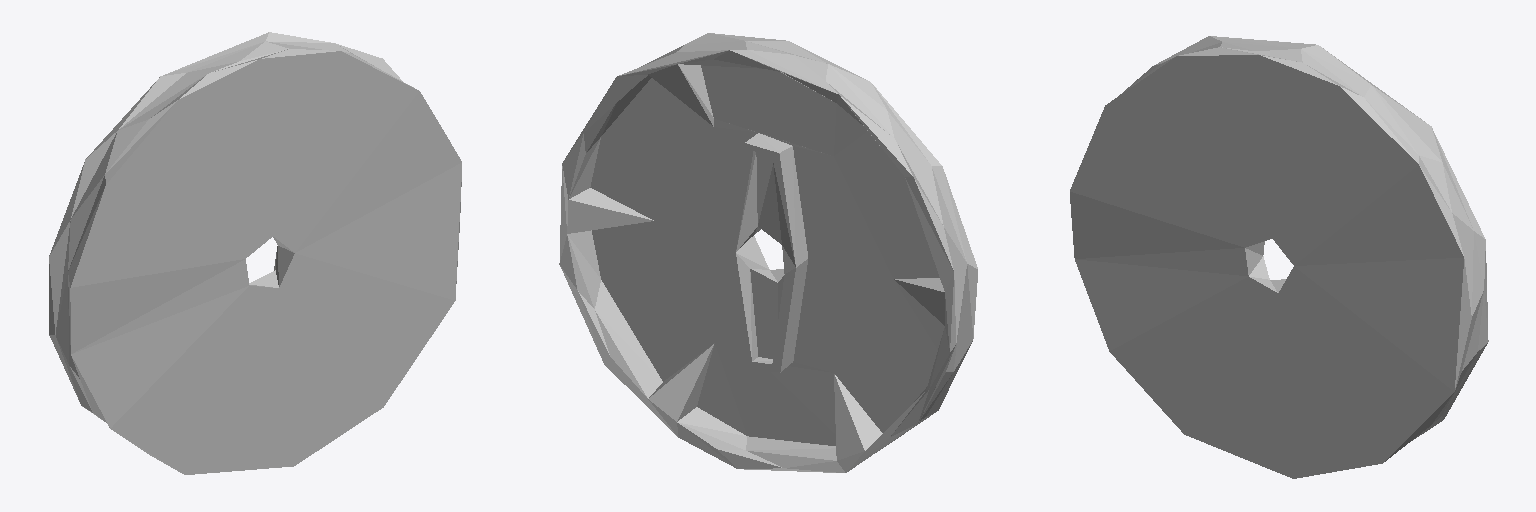
The model's file is part_1_simplified.obj.
The picture shows the model from 3 angles: view 1: azimuth 30°, elevation 25°; view 2: azimuth 150°, elevation 25°; view 3: azimuth 330°, elevation 25°; orthographic projection.
Parts seen in each view (by area): view 1: part_1_simplified; view 2: part_1_simplified; view 3: part_1_simplified.
Boxes of the visible parts, x1=… form: part_1_simplified: x1=49, y1=32, x2=461, y2=474; part_1_simplified: x1=559, y1=33, x2=977, y2=472; part_1_simplified: x1=1070, y1=36, x2=1488, y2=478.
Size of the model in its own units: 0.129 by 0.1298 by 0.014.